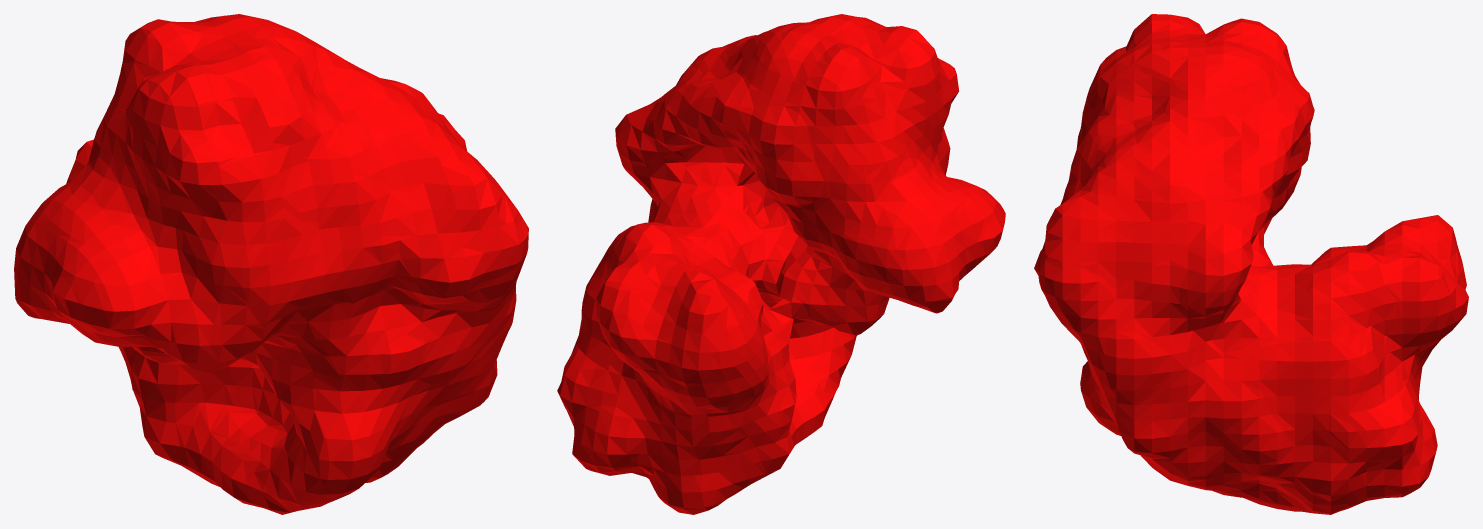
File: rlmA_coarse.dae
3 renders of one model, left to right at view 1: azimuth 30°, elevation 25°; view 2: azimuth 150°, elevation 25°; view 3: azimuth 270°, elevation 25°, orthographic. The views are drawn at different scales.
Visible parts, largest first — view 1: rlmA; view 2: rlmA; view 3: rlmA.
Part boxes in pixels (box(x1,y1,x2,y2)): rlmA: box(14, 14, 528, 514); rlmA: box(557, 14, 1005, 514); rlmA: box(1034, 14, 1468, 514).
Bounding box in the file's own units: 65.77 × 76.84 × 69.58.
